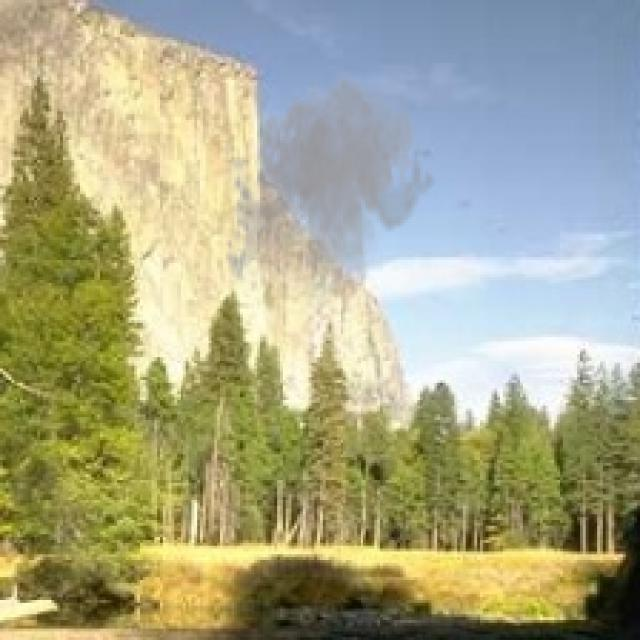smoke: (220, 66, 437, 317)
